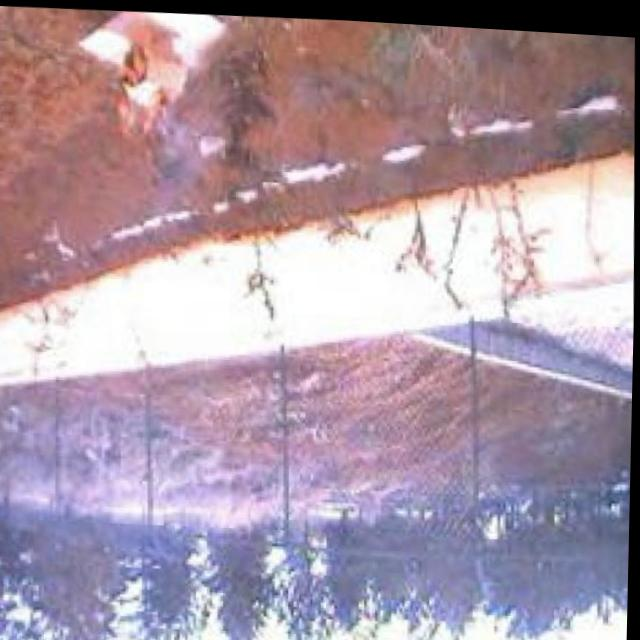Fire: (109, 16, 199, 181)
